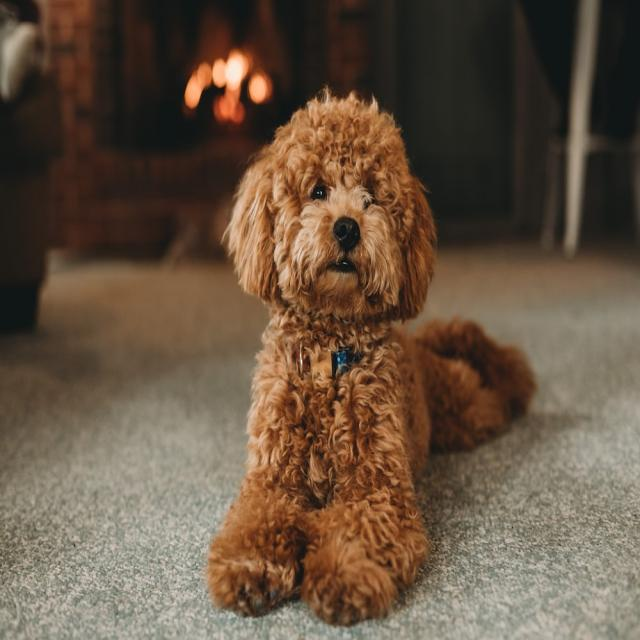poodle: (208, 58, 448, 379)
